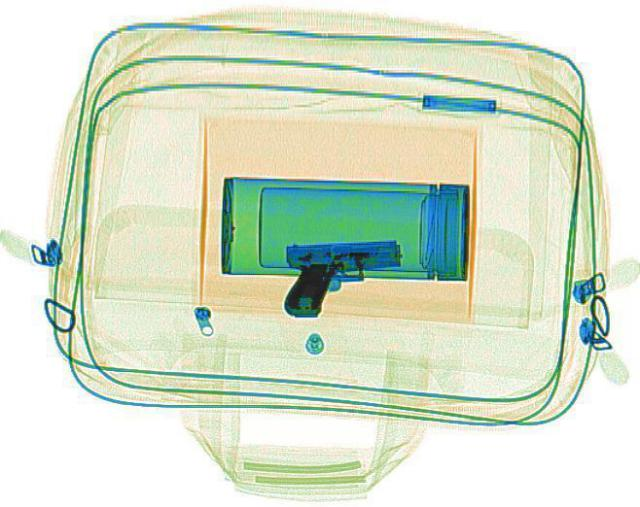Gun: (278, 238, 404, 315)
